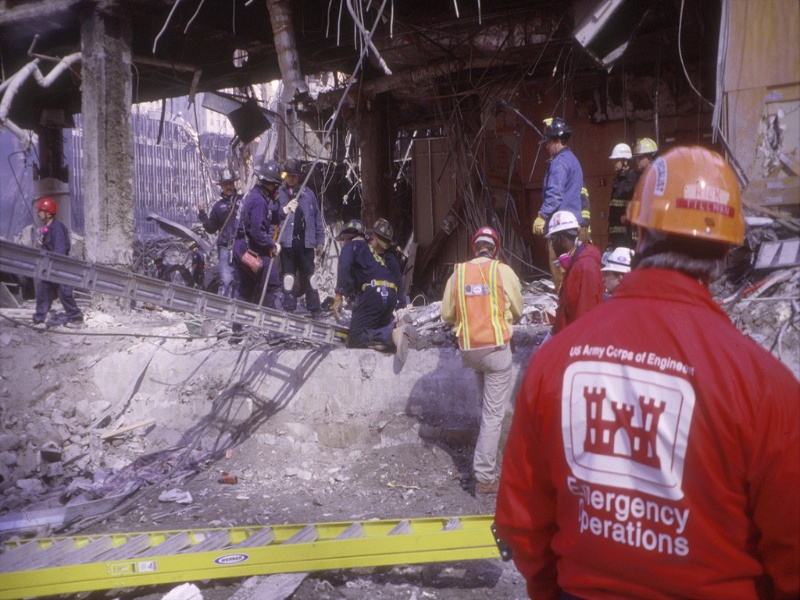helmet: (633, 143, 751, 243), (540, 120, 571, 143), (259, 161, 284, 184), (371, 219, 394, 239), (342, 219, 369, 235), (34, 198, 61, 212), (609, 142, 629, 158), (220, 171, 238, 183)
jacket: (512, 275, 800, 598), (450, 260, 521, 348), (540, 150, 586, 223), (340, 243, 395, 299), (284, 192, 321, 250)
